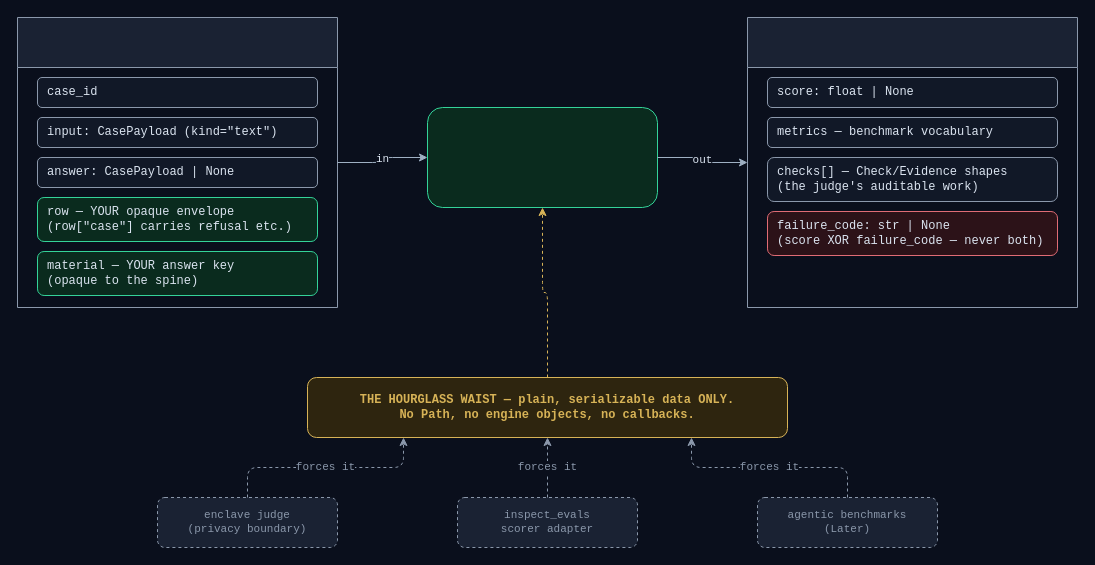
The diagram is 1095 pixels wide and 565 high, and some of its shapes have lost their labels. The shapes that lost their labels are listed below. From the top down, each one's box as (x1, y1, x2, y2) in pixels, then its label:
(16, 16, 338, 308): GradeRequest (one script to mark)
(426, 106, 658, 208): async grade_case (may be a network hop — an enclave judge)
(746, 16, 1078, 308): CaseGradeOutcome (one marked script)
